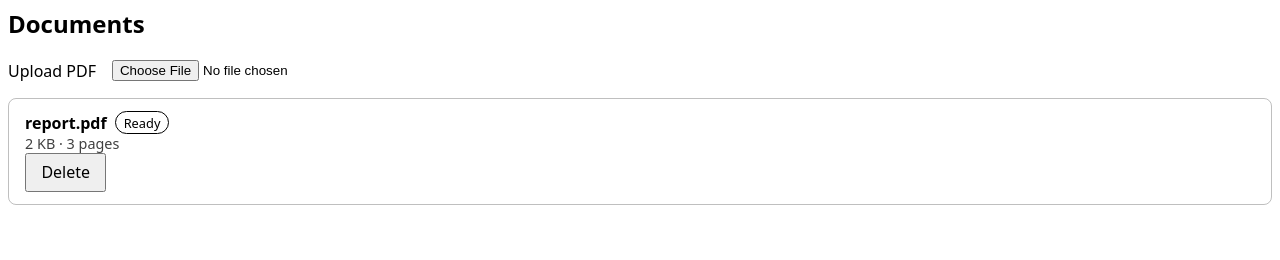
it: Documents › keeps the document and shows an error if deletion fails
Click the button with aria-label "Delete report.pdf": (66, 172) [25,153,106,192]
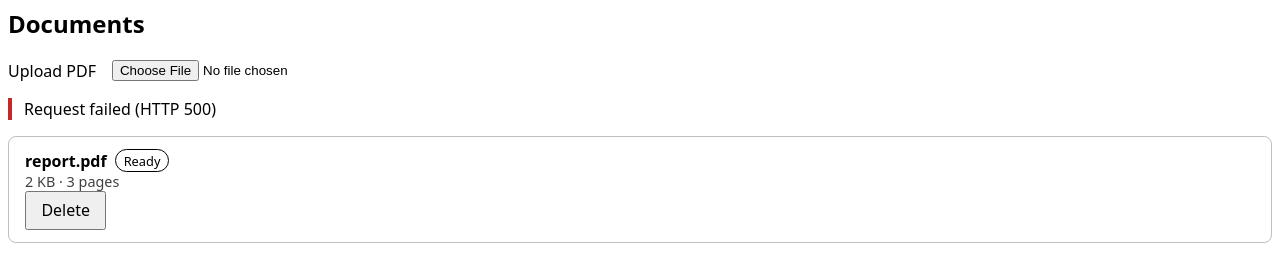
Check: the text "report.pdf" is shown, box [25,150,107,172]
Check: the message shows "HTTP 500", box [24,98,216,120]
